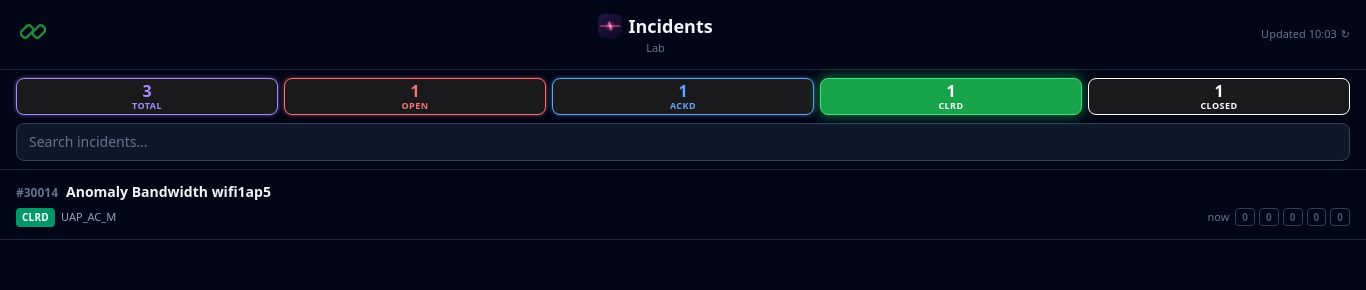
Test: IncidentListScreen › states the CLOSED window in words when the tab is empty
Click the tab "1 CLOSED" at (1219, 96), box [1088,78,1350,114]
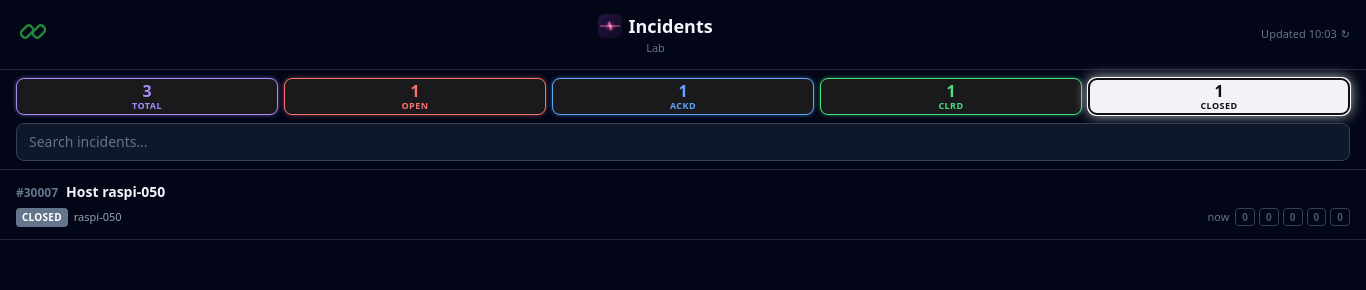
Type "zzz-no-such-thing" into the search field labelled "Search incidents" at (683, 142), box [16,122,1350,160]
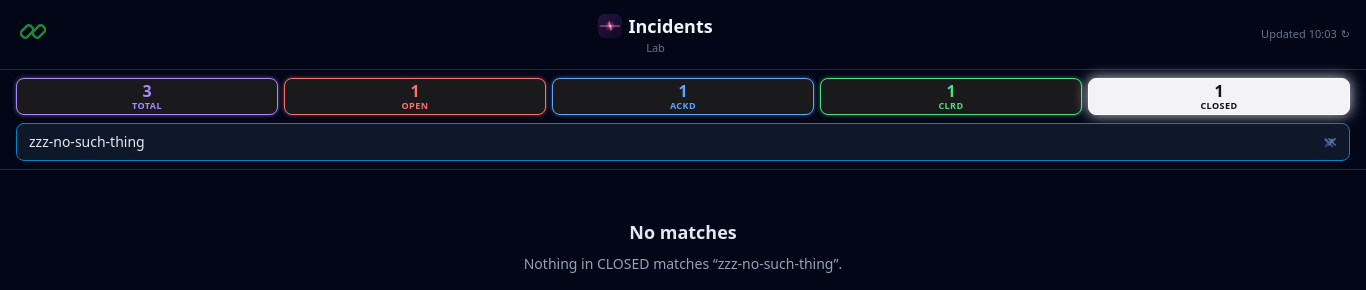
Result: the text "No matches" is shown at [629,218,737,246]
